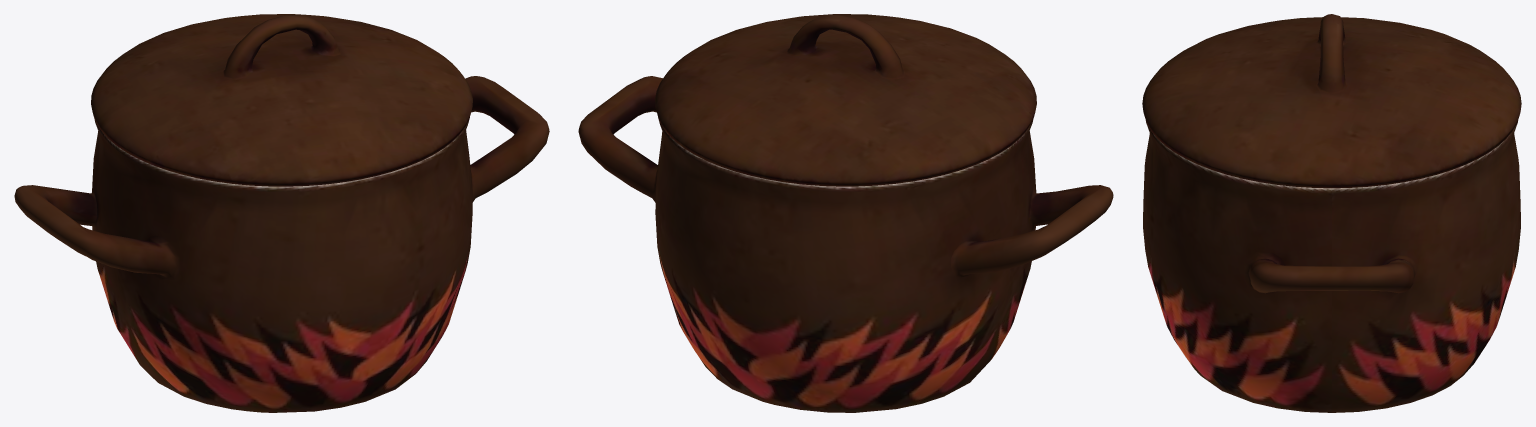
File: pot_enamel_01.glb
The picture shows the model from 3 angles, left to right: view 1: azimuth 30°, elevation 25°; view 2: azimuth 150°, elevation 25°; view 3: azimuth 270°, elevation 25°; orthographic projection.
Parts seen in each view (by area): view 1: pot_enamel_01_base, pot_enamel_01_lid; view 2: pot_enamel_01_base, pot_enamel_01_lid; view 3: pot_enamel_01_base, pot_enamel_01_lid.
Boxes of the visible parts, x1,y1,x2,y2 form: pot_enamel_01_base: [14, 76, 549, 412]; pot_enamel_01_lid: [91, 14, 472, 186]; pot_enamel_01_base: [578, 76, 1113, 412]; pot_enamel_01_lid: [655, 14, 1036, 186]; pot_enamel_01_base: [1143, 120, 1520, 412]; pot_enamel_01_lid: [1142, 14, 1521, 188].
Bounding box in the file's own units: 0.2627 × 0.178 × 0.1805.
Materials: 1 (1 with a texture image).
